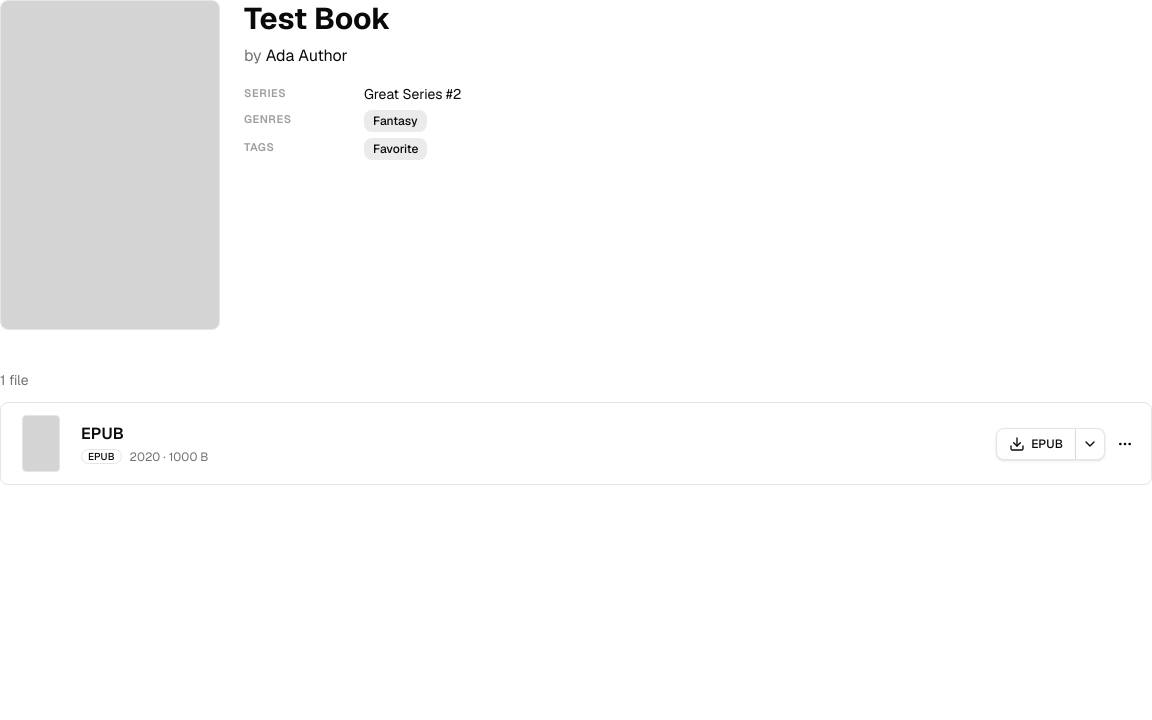
BookDetailBody in Share Link context › omits file identifiers, the file URL, and the server's dates but keeps reader-facing details
Step 1. Click the button named "File actions" → coordinates (1125, 444), box [1111,430,1139,458]
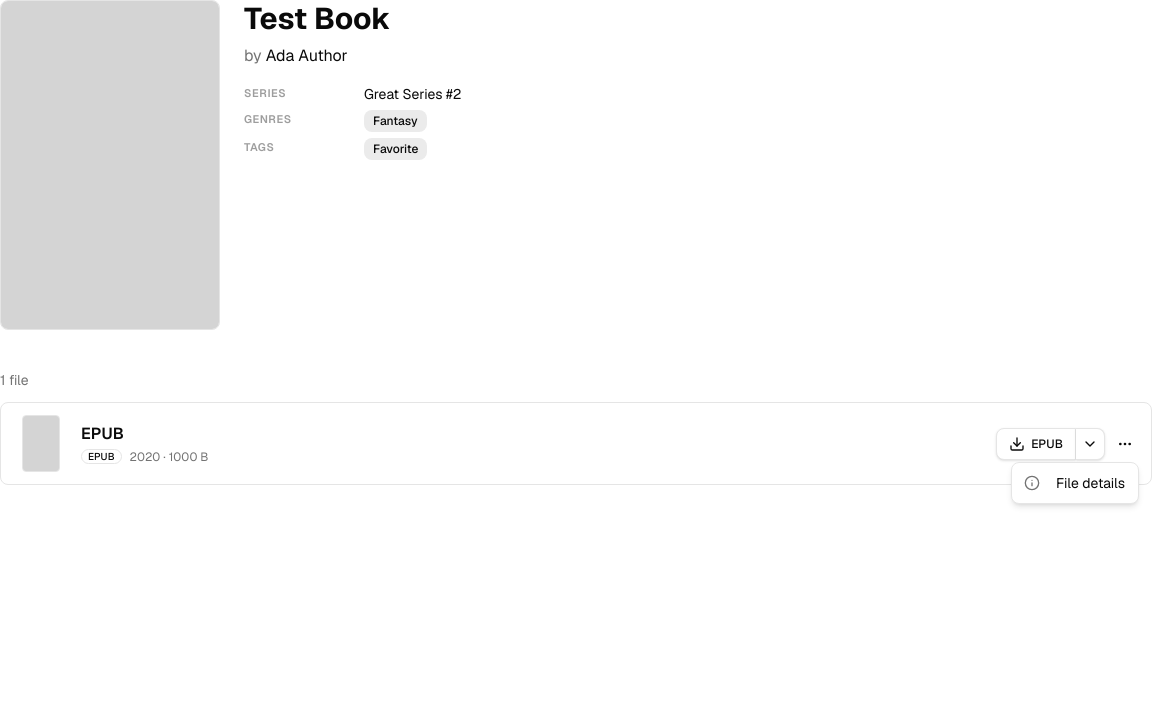
Step 2. Click the menu item "File details" → coordinates (1075, 483), box [1024,474,1125,492]
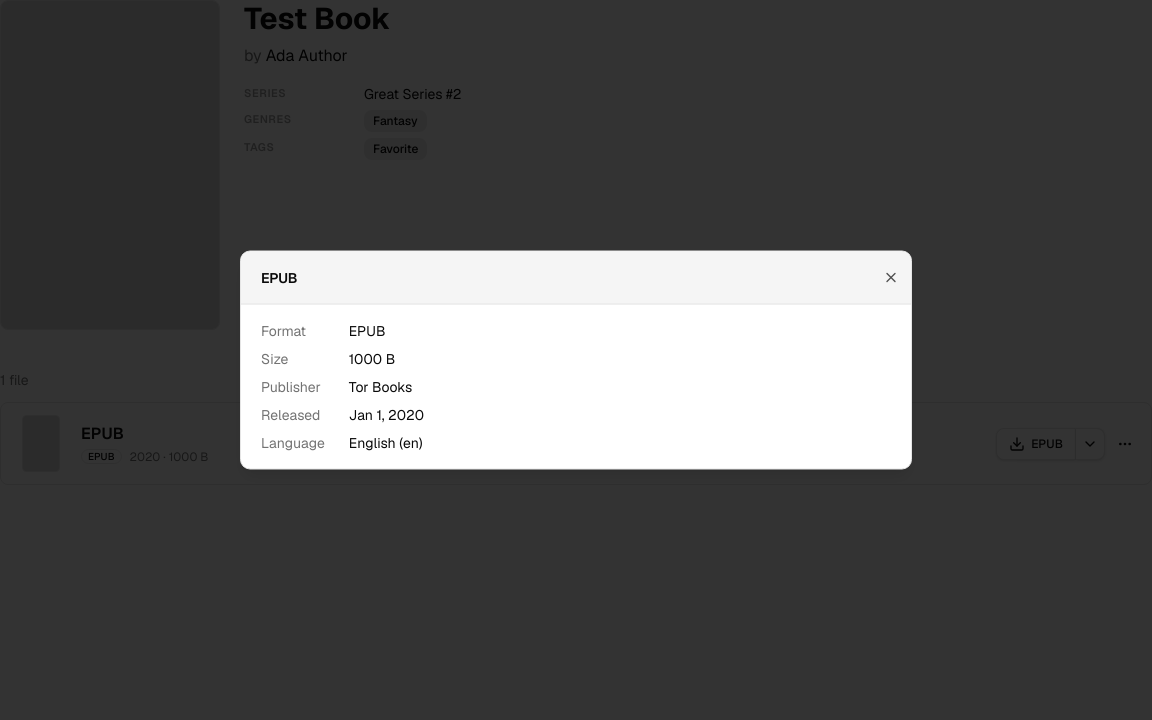
expect the text "Tor Books" is shown: met, box [349,378,412,396]
expect the text "Released" is shown: met, box [261,404,325,424]
expect the text "Language" is shown: met, box [261,432,325,452]
